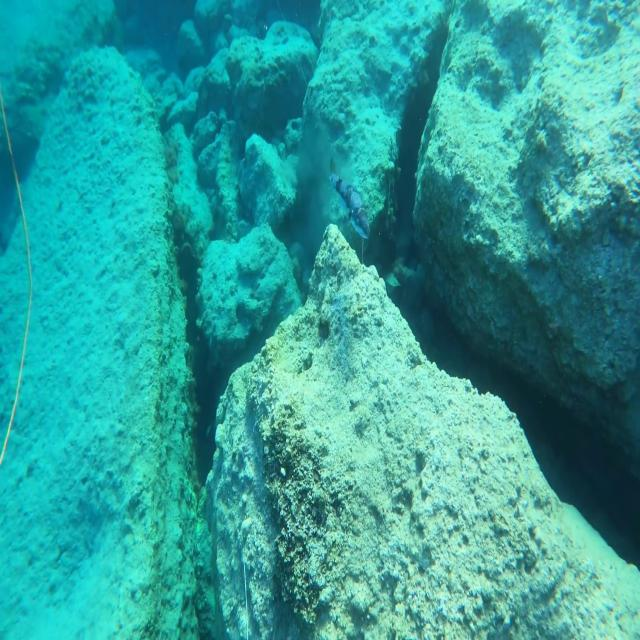Balon Baligi: (329, 159, 370, 239)
